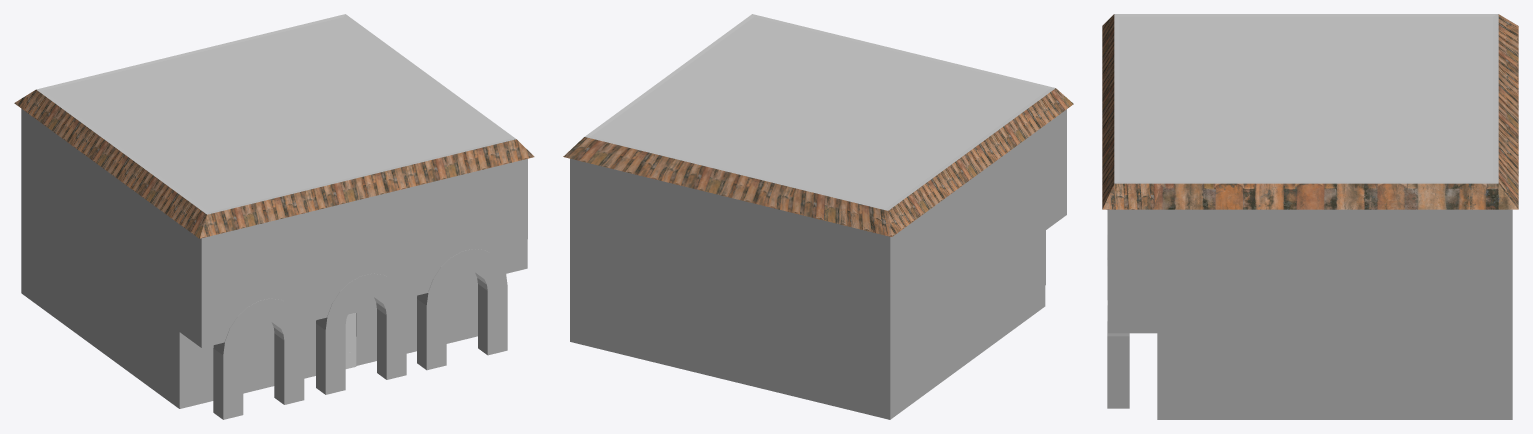
Rendered from house_peeling.fbx.
3 views of the same model, side by side, from view 1: azimuth 30°, elevation 25°; view 2: azimuth 150°, elevation 25°; view 3: azimuth 270°, elevation 25° (orthographic). The views are drawn at different scales.
Visible parts, largest first — view 1: Cube, Cube.001, Cube.003, Cube.002, Cube.022; view 2: Cube; view 3: Cube, Cube.003.
Part boxes in pixels (<box>): Cube: <box>14,14,534,408</box>; Cube.001: <box>213,298,304,419</box>; Cube.003: <box>417,249,507,370</box>; Cube.002: <box>316,273,406,394</box>; Cube.022: <box>345,313,356,368</box>; Cube: <box>563,14,1073,419</box>; Cube: <box>1102,14,1518,419</box>; Cube.003: <box>1107,258,1129,408</box>.
Size of the model in its own units: 824 by 486 by 789.
